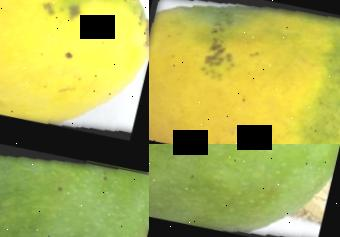Ripe: (149, 0, 340, 144), (0, 0, 149, 144)
Unripe: (149, 144, 340, 237), (0, 144, 149, 237)
